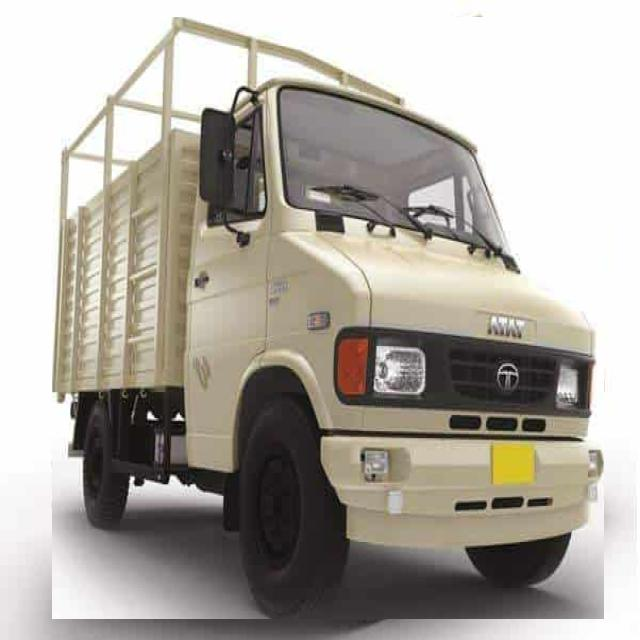truck: (52, 17, 604, 619)
